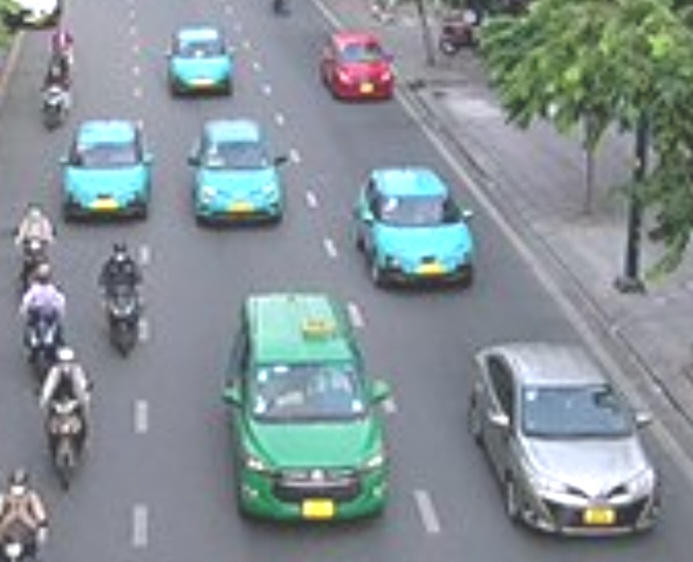car: (468, 339, 662, 538), (227, 297, 388, 515), (356, 170, 479, 286), (193, 118, 285, 227), (62, 120, 145, 218), (322, 32, 399, 105), (167, 21, 236, 98)
